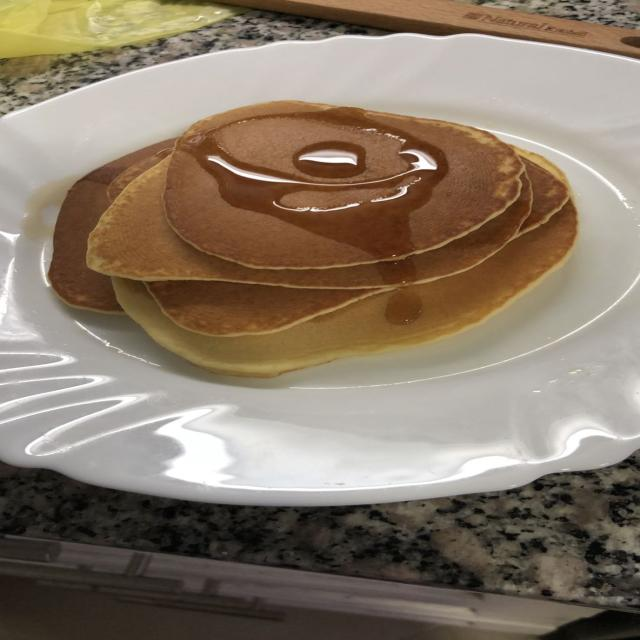pancake: (114, 201, 577, 376), (164, 102, 523, 268), (87, 161, 531, 288), (48, 140, 173, 313), (147, 281, 384, 336), (515, 148, 569, 233), (107, 139, 174, 201)
